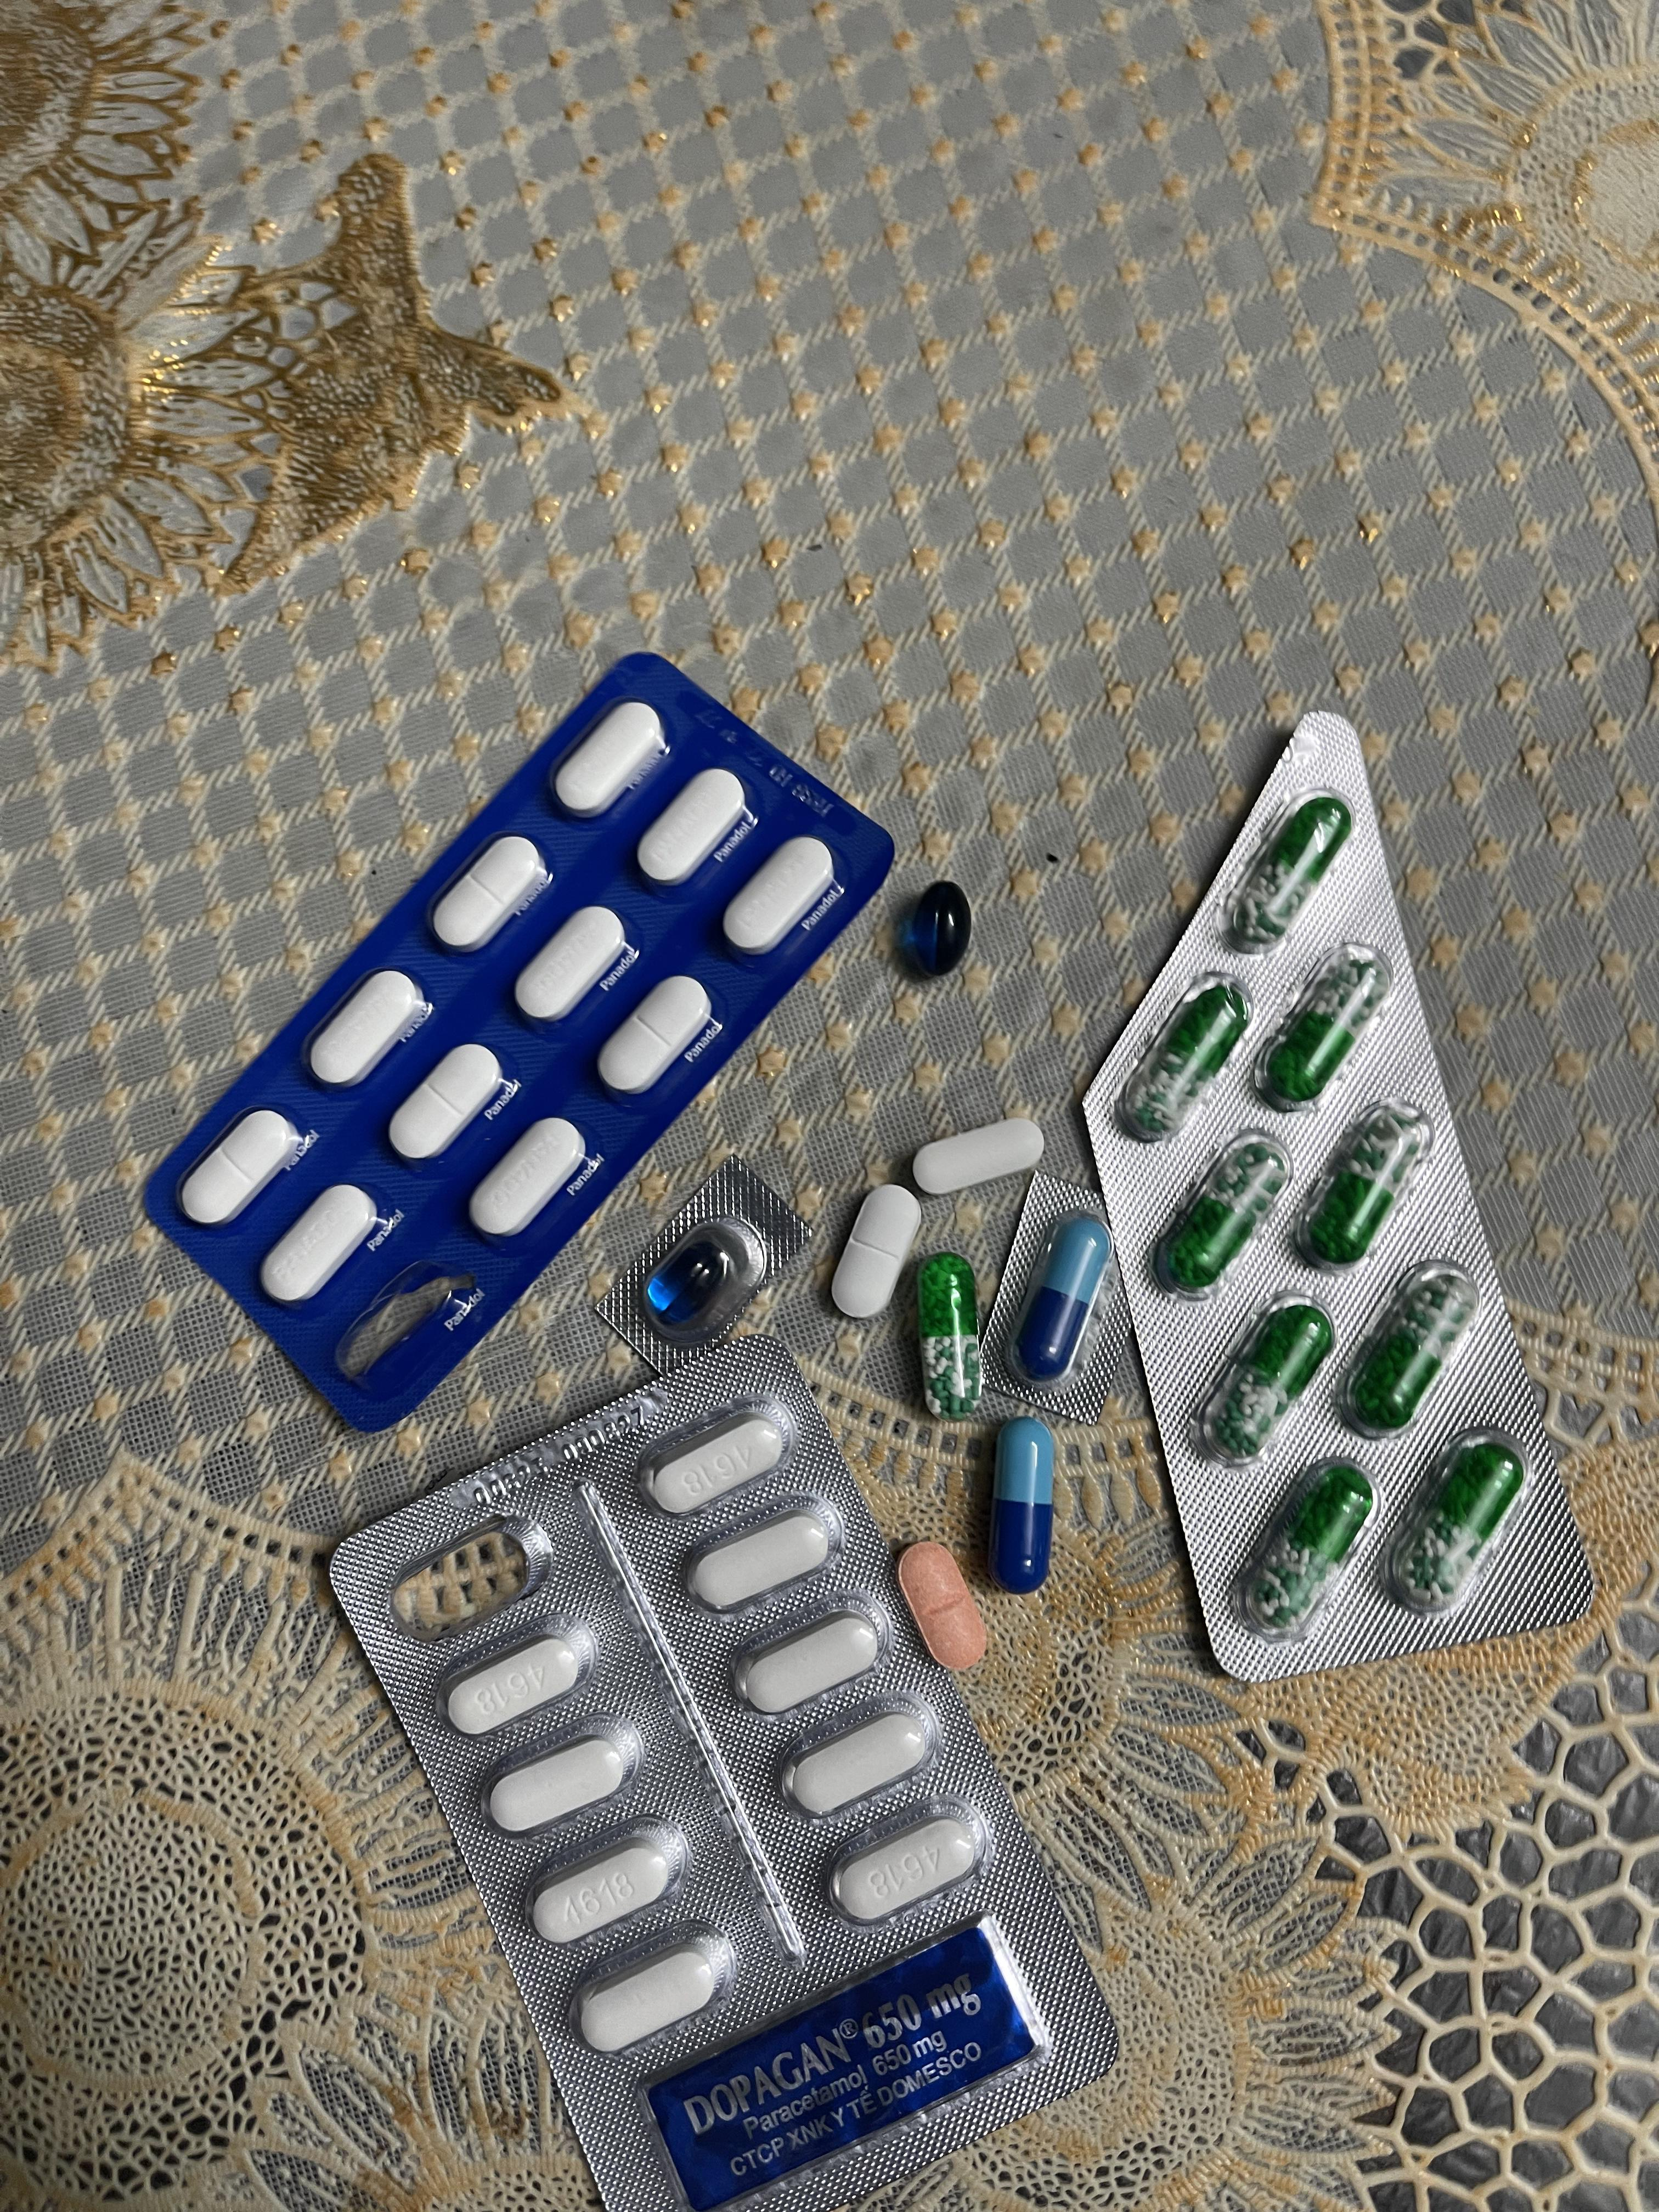Lincomyxin_500mg: (647, 1238, 735, 1324), (899, 880, 974, 979)
Loratadine_10mg: (897, 1541, 985, 1667)
Paracetamol_350mg: (308, 968, 427, 1089), (469, 1115, 587, 1235), (721, 834, 836, 958), (261, 1186, 380, 1305), (636, 768, 753, 888), (179, 1106, 300, 1223), (427, 838, 545, 954), (552, 700, 669, 819), (599, 975, 713, 1097), (514, 906, 629, 1024), (389, 1043, 504, 1160), (831, 1188, 920, 1320)
Paracetamol_500mg: (828, 1799, 990, 1928), (526, 1820, 690, 1947), (730, 1599, 892, 1719), (781, 1707, 938, 1818), (444, 1623, 596, 1738), (573, 1942, 723, 2055), (486, 1735, 633, 1841), (687, 1512, 835, 1615), (645, 1416, 786, 1514), (911, 1118, 1051, 1195)
Paracetamol_650mg: (1382, 1426, 1528, 1616), (1237, 1461, 1375, 1642), (1338, 1261, 1478, 1437), (1195, 1292, 1335, 1467), (1255, 948, 1396, 1113), (1297, 1104, 1432, 1266), (1119, 975, 1248, 1141), (1155, 1136, 1286, 1294), (1225, 792, 1352, 954), (917, 1254, 985, 1418)
pill: (1007, 1216, 1112, 1390), (990, 1416, 1056, 1592)
